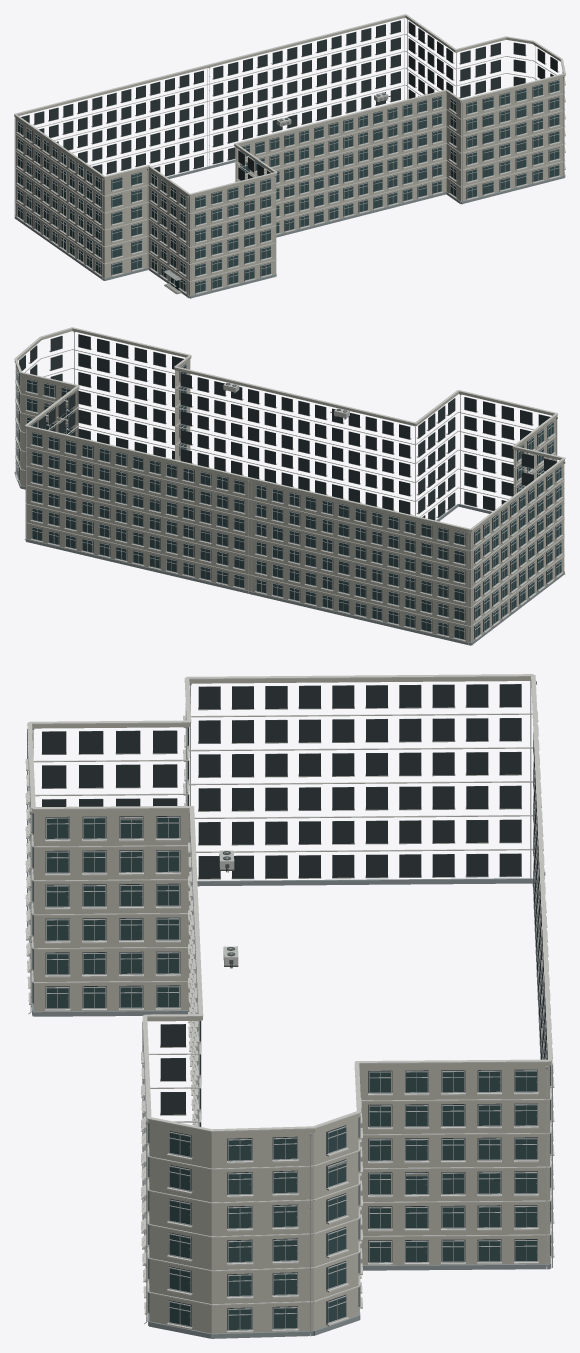
Rendered from osm_way_223859826.glb.
The picture shows the model from 3 angles, top to bottom: view 1: azimuth 30°, elevation 25°; view 2: azimuth 150°, elevation 25°; view 3: azimuth 270°, elevation 25°; orthographic projection. The views are drawn at different scales.
Visible parts, largest first — view 1: Windows and facade details | 行政楼办公楼, Architecture | 行政楼办公楼, Roof services | 行政楼办公楼, EXTERIOR::osm_way_223859826::rainwater and roof service deta; view 2: Windows and facade details | 行政楼办公楼, Architecture | 行政楼办公楼, Roof services | 行政楼办公楼, EXTERIOR::osm_way_223859826::rainwater and roof service deta; view 3: Windows and facade details | 行政楼办公楼, Architecture | 行政楼办公楼, Roof services | 行政楼办公楼, EXTERIOR::osm_way_223859826::rainwater and roof service deta.
Part boxes in pixels (left/top/right/bottom): Windows and facade details | 行政楼办公楼: left=14, top=18, right=565, bottom=298; Architecture | 行政楼办公楼: left=14, top=16, right=565, bottom=298; Roof services | 行政楼办公楼: left=14, top=14, right=565, bottom=195; EXTERIOR::osm_way_223859826::rainwater and roof service deta: left=101, top=19, right=564, bottom=297; Windows and facade details | 行政楼办公楼: left=15, top=334, right=563, bottom=644; Architecture | 行政楼办公楼: left=15, top=329, right=564, bottom=645; Roof services | 行政楼办公楼: left=14, top=327, right=565, bottom=530; EXTERIOR::osm_way_223859826::rainwater and roof service deta: left=14, top=331, right=565, bottom=645; Windows and facade details | 行政楼办公楼: left=25, top=681, right=554, bottom=1333; Architecture | 行政楼办公楼: left=31, top=677, right=551, bottom=1338; Roof services | 行政楼办公楼: left=27, top=674, right=552, bottom=1131; EXTERIOR::osm_way_223859826::rainwater and roof service deta: left=28, top=681, right=547, bottom=1336.
Size of the model in its own units: 107 by 23.58 by 52.3.
